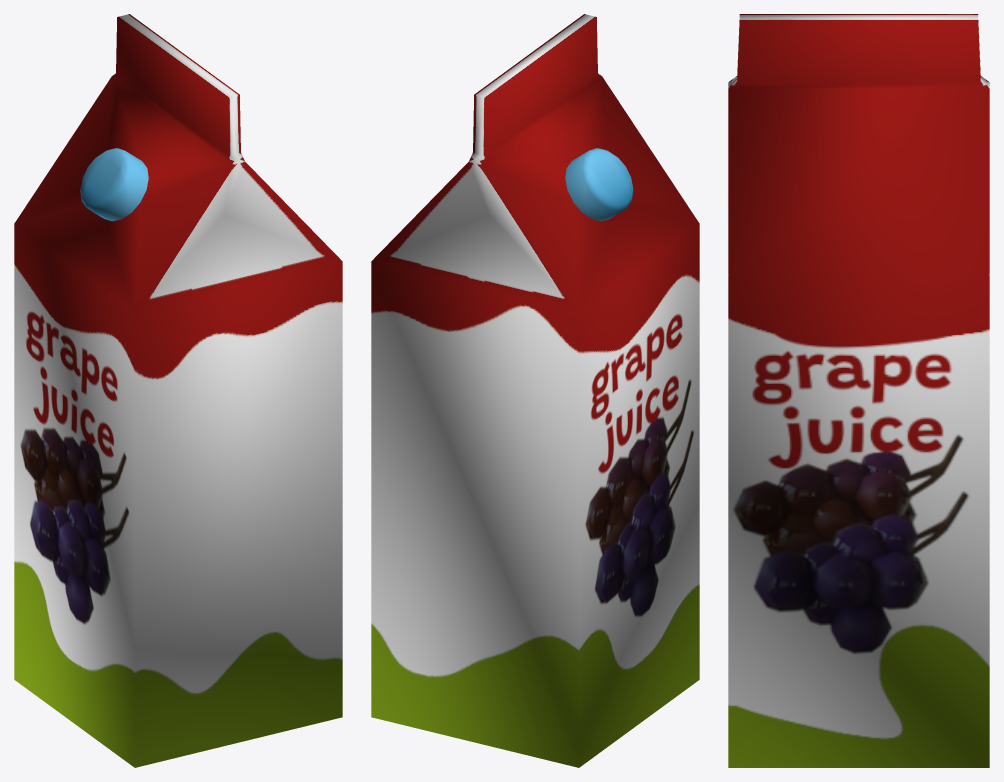
Rendered from grapejuicegfx.glb.
3 renders of one model, left to right at view 1: azimuth 30°, elevation 25°; view 2: azimuth 150°, elevation 25°; view 3: azimuth 270°, elevation 25°, orthographic. The views are drawn at different scales.
Visible parts, largest first — view 1: grapejuicegfx, grapejuicegfx.001; view 2: grapejuicegfx, grapejuicegfx.001; view 3: grapejuicegfx.
Boxes of the visible parts, x1,y1,x2,y2 form: grapejuicegfx: (14, 14, 342, 767); grapejuicegfx.001: (80, 148, 148, 221); grapejuicegfx: (371, 14, 699, 767); grapejuicegfx.001: (565, 148, 633, 221); grapejuicegfx: (728, 14, 989, 767).
Bounding box in the file's own units: 0.1732 × 0.5116 × 0.1742.
1 material, 1 textured.
